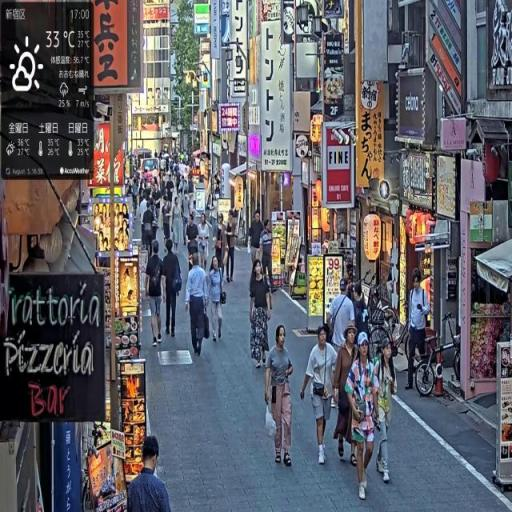person: (344, 332, 382, 504), (300, 323, 339, 468), (264, 322, 297, 471), (372, 336, 399, 488), (334, 323, 361, 473), (128, 434, 174, 512), (249, 259, 275, 370), (408, 269, 431, 391), (186, 250, 210, 359), (147, 243, 168, 348), (163, 240, 183, 339), (206, 254, 227, 343), (225, 211, 238, 286), (198, 212, 211, 271)
